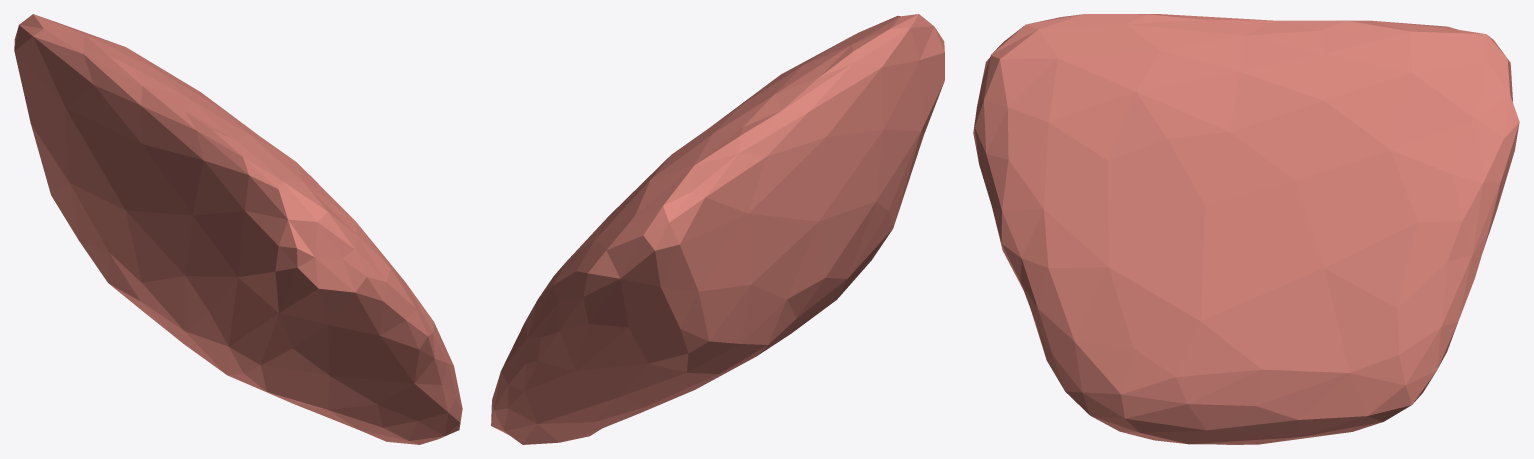
The picture shows the model from 3 angles, left to right: view 1: azimuth 30°, elevation 25°; view 2: azimuth 150°, elevation 25°; view 3: azimuth 270°, elevation 25°; orthographic projection. The views are drawn at different scales.
Visible parts, largest first — view 1: 126.obj; view 2: 126.obj; view 3: 126.obj.
Boxes of the visible parts, x1=… form: 126.obj: x1=14, y1=14, x2=462, y2=444; 126.obj: x1=491, y1=14, x2=944, y2=444; 126.obj: x1=973, y1=14, x2=1519, y2=444.
Size of the model in its own units: 466 by 627 by 905.
